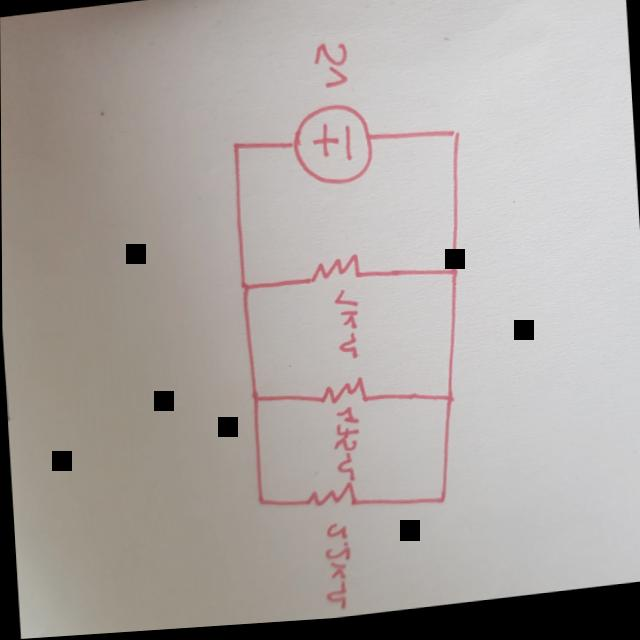junction: (246, 391, 267, 411), (253, 494, 273, 514), (428, 492, 447, 513), (443, 265, 462, 286), (438, 393, 456, 413), (236, 281, 253, 300), (227, 140, 244, 158), (446, 131, 462, 149)
resistor: (301, 253, 367, 291), (312, 375, 376, 414), (301, 482, 358, 518)
source: (292, 103, 373, 194)
text: (318, 524, 353, 615), (308, 37, 355, 95), (329, 290, 363, 364), (330, 410, 362, 484)
